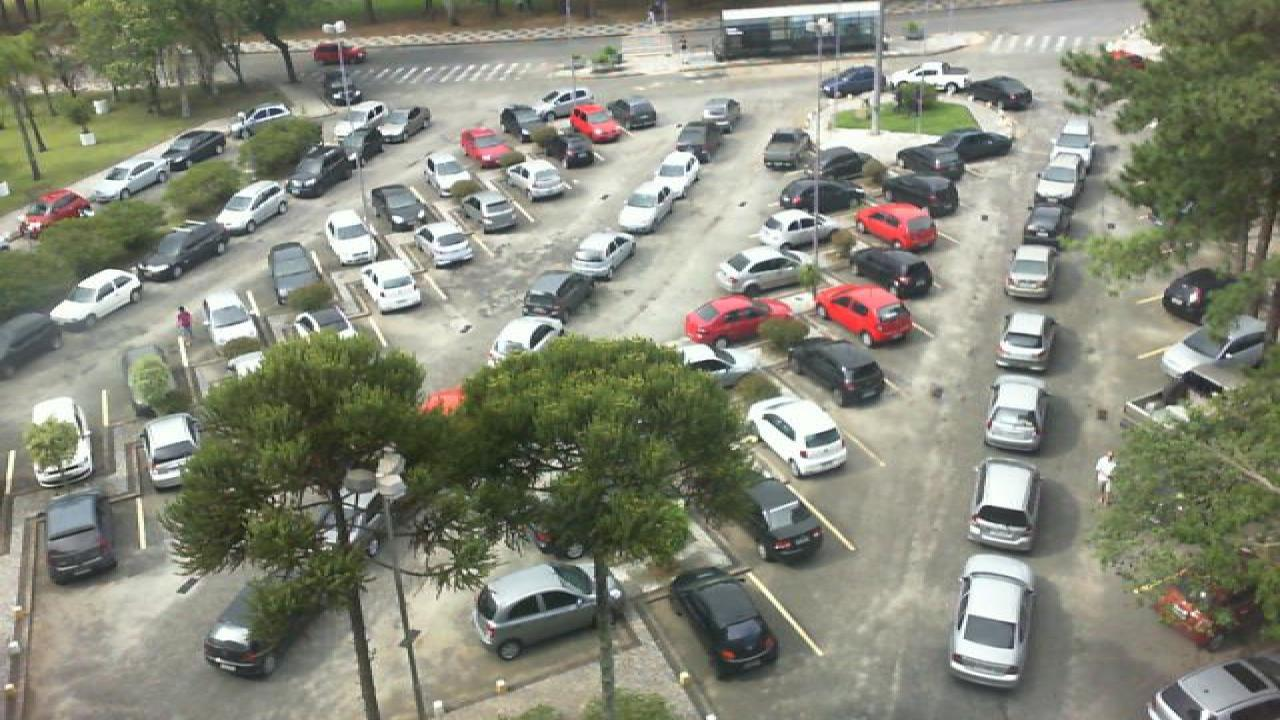Car: (468, 562, 604, 662), (672, 564, 780, 681), (948, 551, 1036, 690), (202, 578, 302, 681), (1136, 651, 1280, 720), (1156, 315, 1270, 394), (742, 393, 848, 477), (736, 475, 826, 566), (38, 490, 120, 584), (968, 454, 1044, 552), (792, 336, 888, 406), (814, 282, 914, 346), (30, 394, 98, 488), (682, 292, 790, 346), (48, 266, 142, 328), (980, 373, 1048, 454), (142, 411, 206, 496), (138, 219, 222, 282), (714, 244, 808, 296), (1158, 267, 1240, 325), (674, 340, 768, 389), (486, 312, 566, 366), (856, 201, 940, 252), (852, 246, 934, 298), (758, 206, 848, 251), (996, 310, 1058, 373), (0, 313, 60, 378), (202, 283, 260, 350), (282, 142, 350, 199), (360, 257, 424, 315), (524, 269, 594, 322), (216, 178, 288, 229), (90, 158, 172, 202), (264, 240, 322, 302), (568, 230, 638, 280), (20, 188, 94, 235), (782, 176, 868, 214), (884, 176, 960, 219), (324, 208, 382, 263), (616, 182, 672, 238), (368, 184, 428, 234), (416, 220, 476, 269), (1004, 243, 1056, 299), (160, 126, 232, 166), (818, 144, 890, 183), (646, 145, 702, 194), (888, 61, 970, 92), (422, 150, 478, 195), (896, 144, 966, 180), (1042, 152, 1090, 204), (1030, 199, 1080, 248), (966, 76, 1034, 112), (472, 187, 524, 234), (820, 66, 890, 100), (520, 156, 574, 200), (568, 102, 626, 142), (762, 127, 812, 173), (460, 126, 514, 168), (374, 105, 432, 144), (500, 108, 556, 146), (328, 100, 388, 135), (1048, 115, 1096, 158), (552, 127, 600, 169), (230, 100, 296, 130), (954, 128, 1012, 162), (670, 117, 722, 154), (532, 87, 594, 118), (318, 73, 364, 108), (610, 98, 660, 130), (700, 97, 742, 127), (312, 41, 366, 63)
